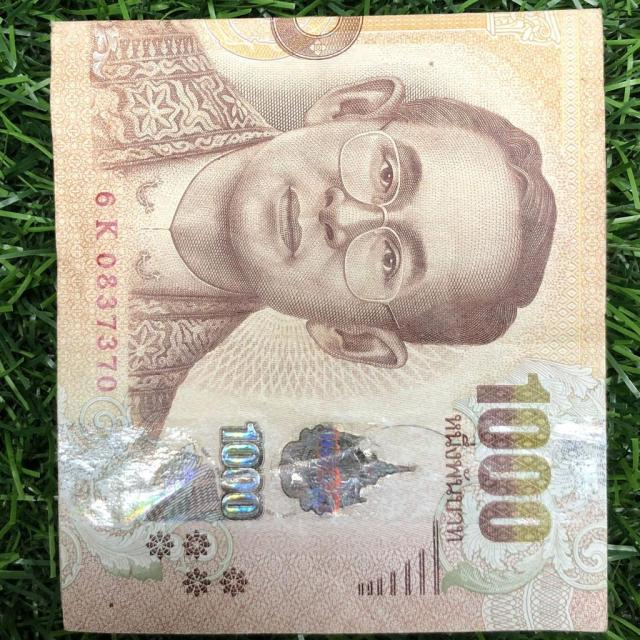THAI1000: (51, 9, 609, 634)
